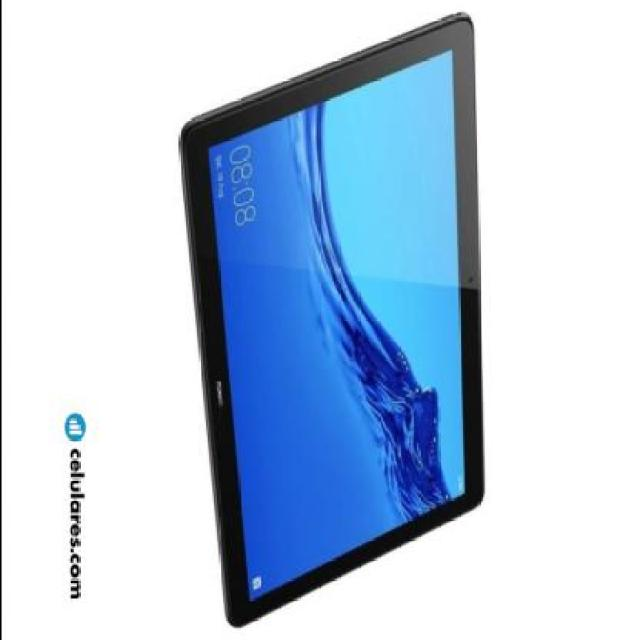tablet: (173, 0, 506, 612)
